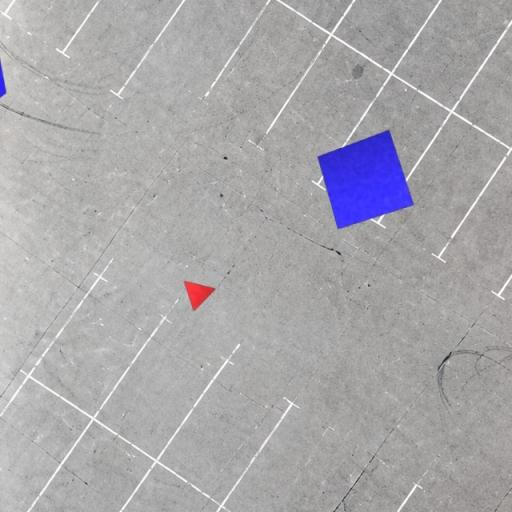BLUE_SQUARE: (317, 129, 414, 230)
